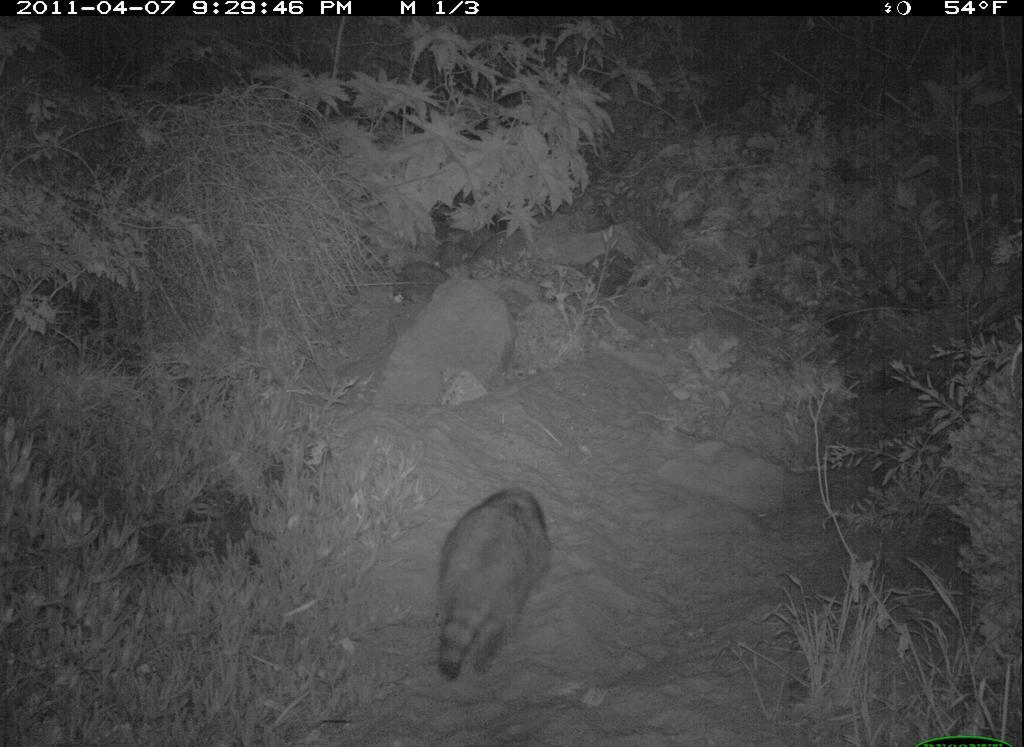raccoon: (423, 478, 553, 688)
